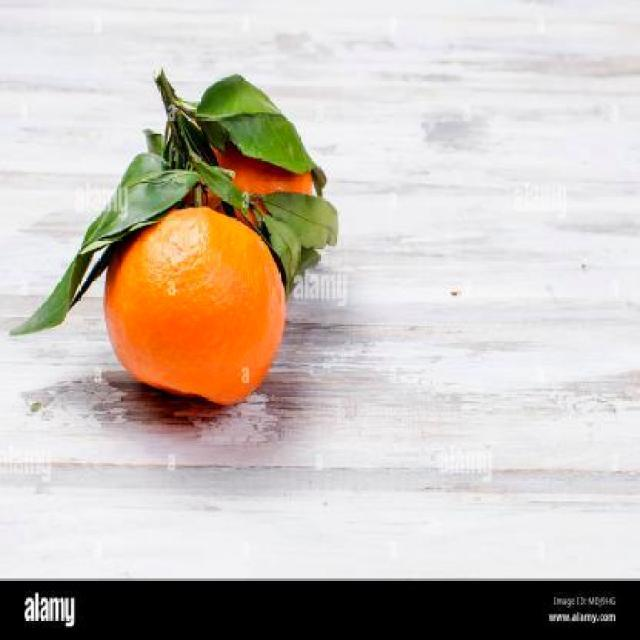Jeruk Sudah Matang: (104, 204, 286, 410)
